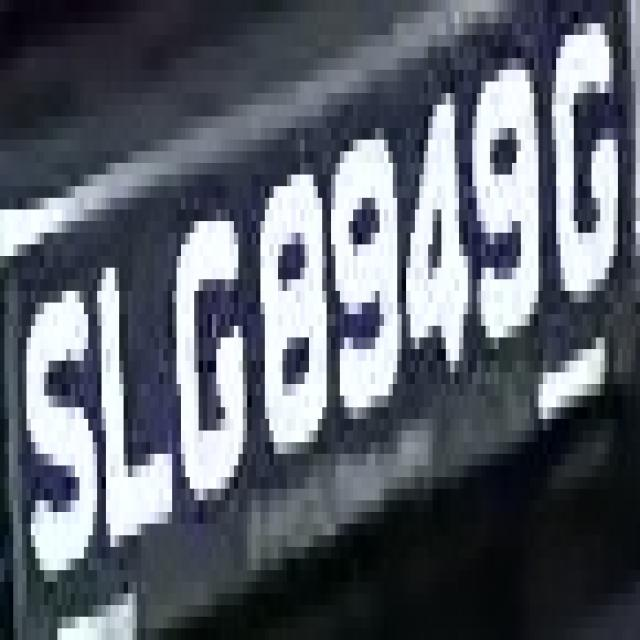4: (388, 70, 486, 396)
8: (252, 151, 331, 454)
9: (468, 47, 560, 360), (331, 105, 406, 465)
G: (168, 197, 247, 524), (543, 12, 622, 326)
L: (92, 209, 176, 547)
S: (18, 268, 102, 616)
